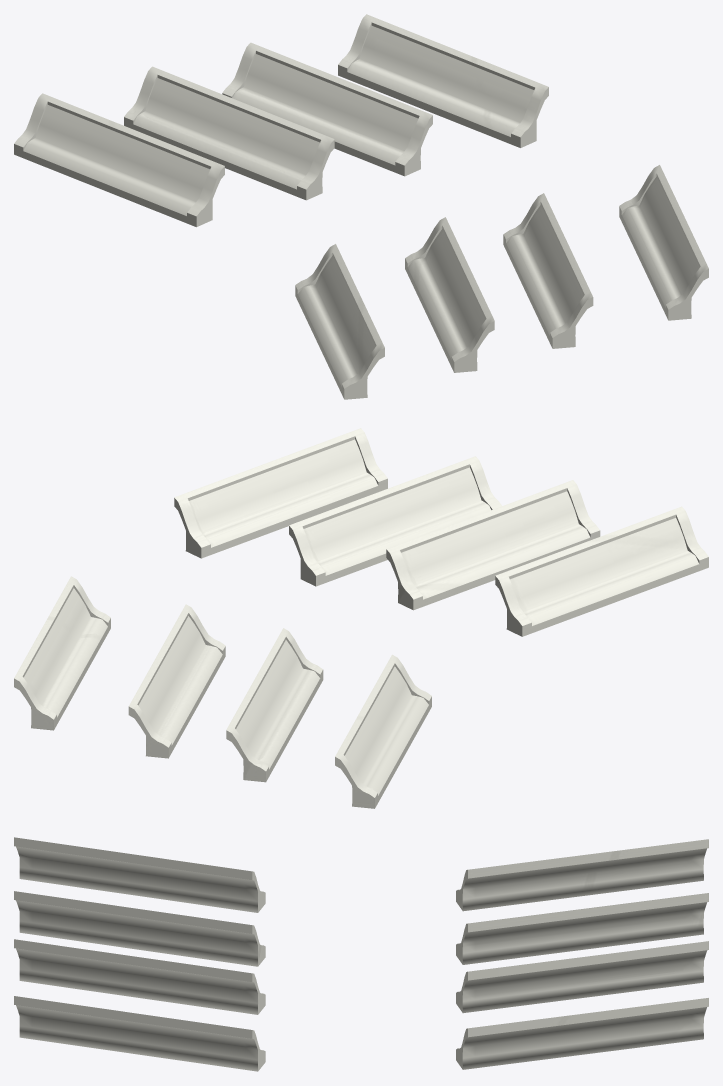
File: chair.obj
3 views of the same model, one above another, from view 1: azimuth 30°, elevation 25°; view 2: azimuth 150°, elevation 25°; view 3: azimuth 270°, elevation 25° (orthographic).
Parts seen in each view (by area): view 1: chair:pCube15 chair:textureBakeSet2 chair:polySurface1; view 2: chair:pCube15 chair:textureBakeSet2 chair:polySurface1; view 3: chair:pCube15 chair:textureBakeSet2 chair:polySurface1.
Part boxes in pixels (<box>): chair:pCube15 chair:textureBakeSet2 chair:polySurface1: <box>14,14,708,399</box>; chair:pCube15 chair:textureBakeSet2 chair:polySurface1: <box>14,428,708,808</box>; chair:pCube15 chair:textureBakeSet2 chair:polySurface1: <box>14,837,708,1071</box>.
Size of the model in its own units: 4.83 by 0.5246 by 6.77.
1 material, 1 textured.
